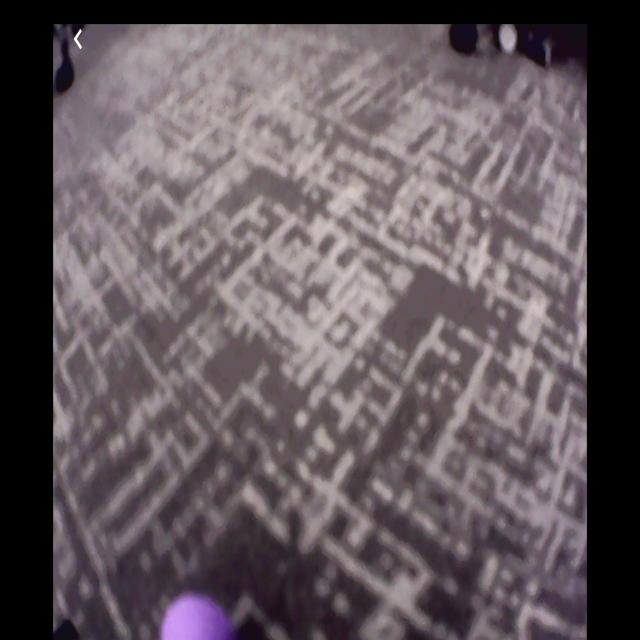ball: (160, 590, 232, 640)
